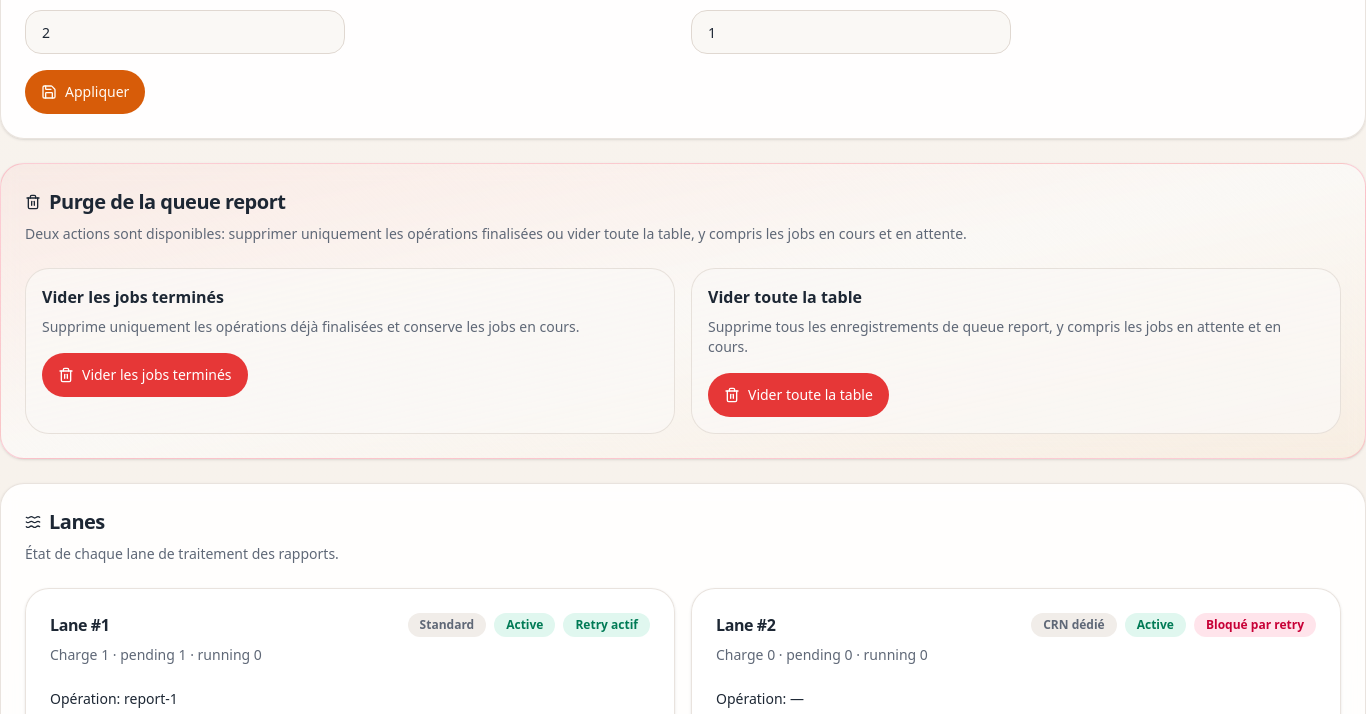
Test: ReportQueuePage › exposes both purge scopes through confirmation panels
(page scrolled)
expect the heading "Purge de la queue report" is shown: met, box [25, 188, 285, 215]
Click the button "Vider les jobs terminés": [145, 375] box [42, 353, 248, 397]
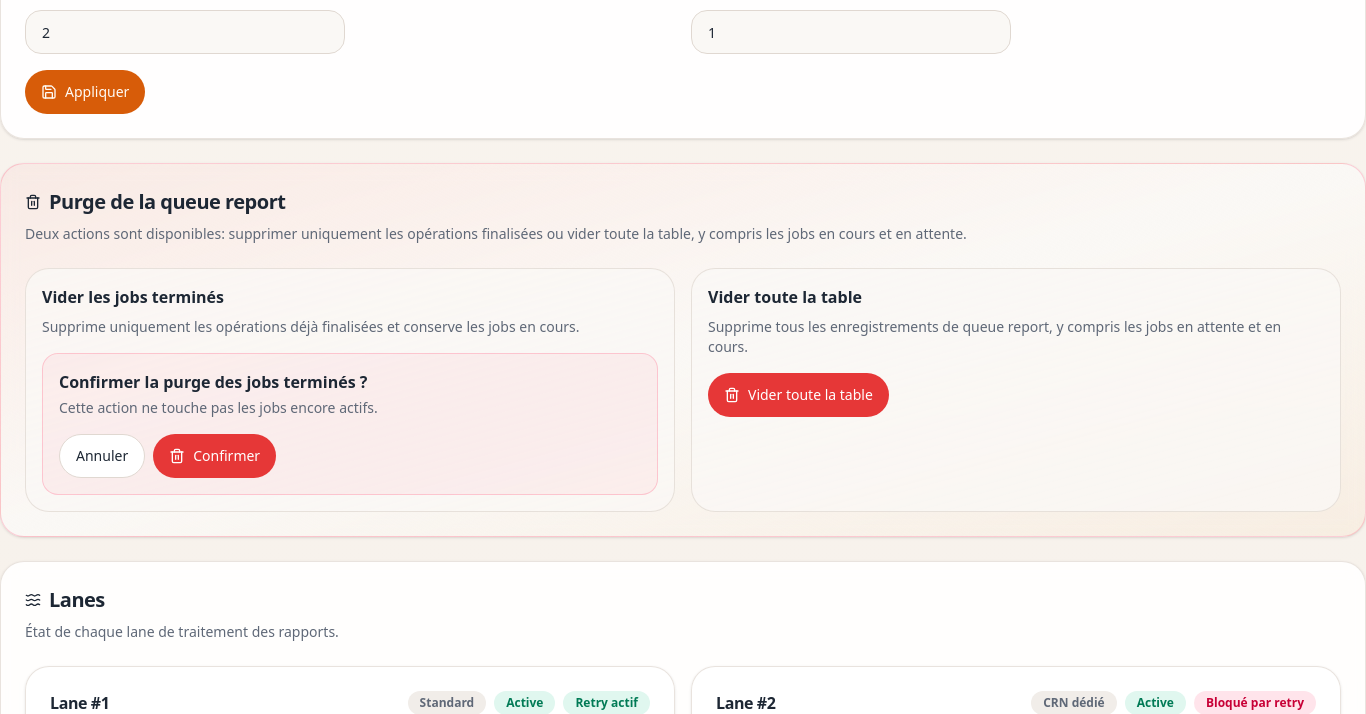
expect the text "Confirmer la purge des jobs terminés ?" is shown: met, box [59, 371, 367, 393]
Click the button "Confirmer": [215, 456] box [153, 434, 276, 478]
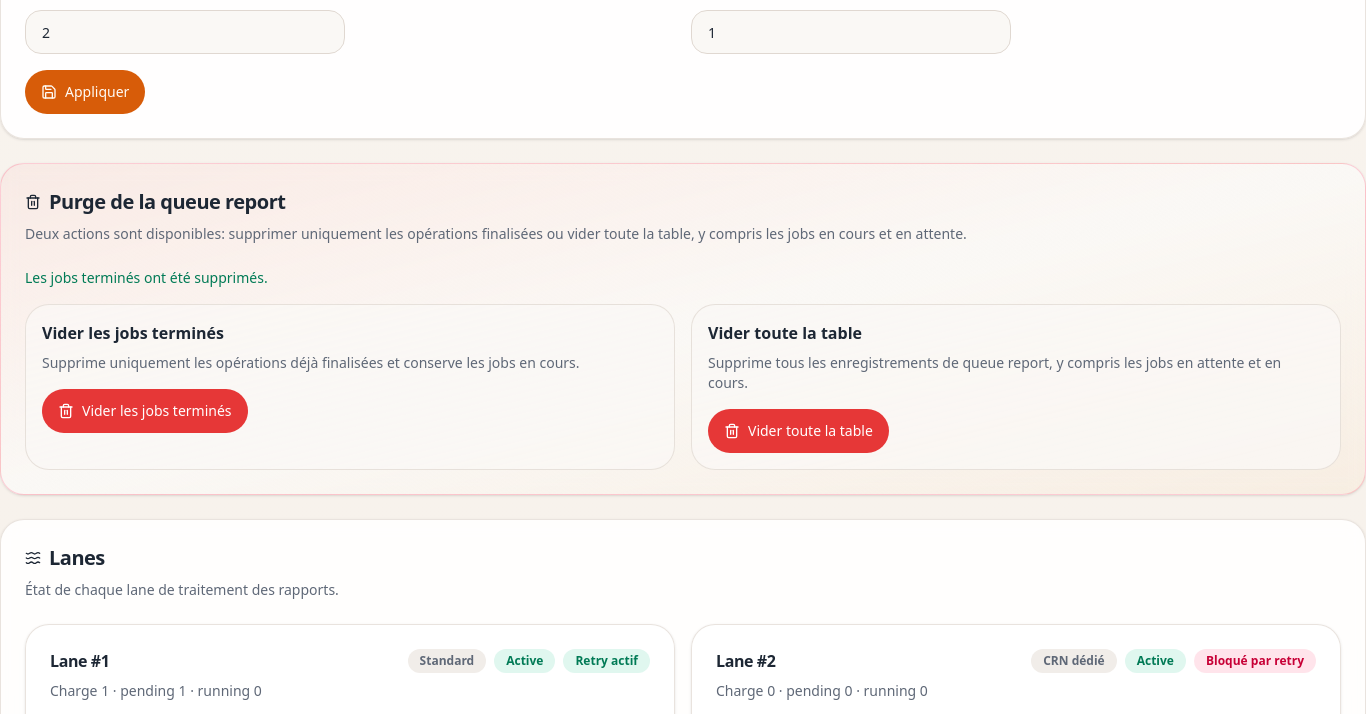
expect the text "Les jobs terminés ont été supprimés." is shown: met, box [25, 268, 268, 287]
Click the button "Vider toute la table": [798, 431] box [708, 409, 889, 453]
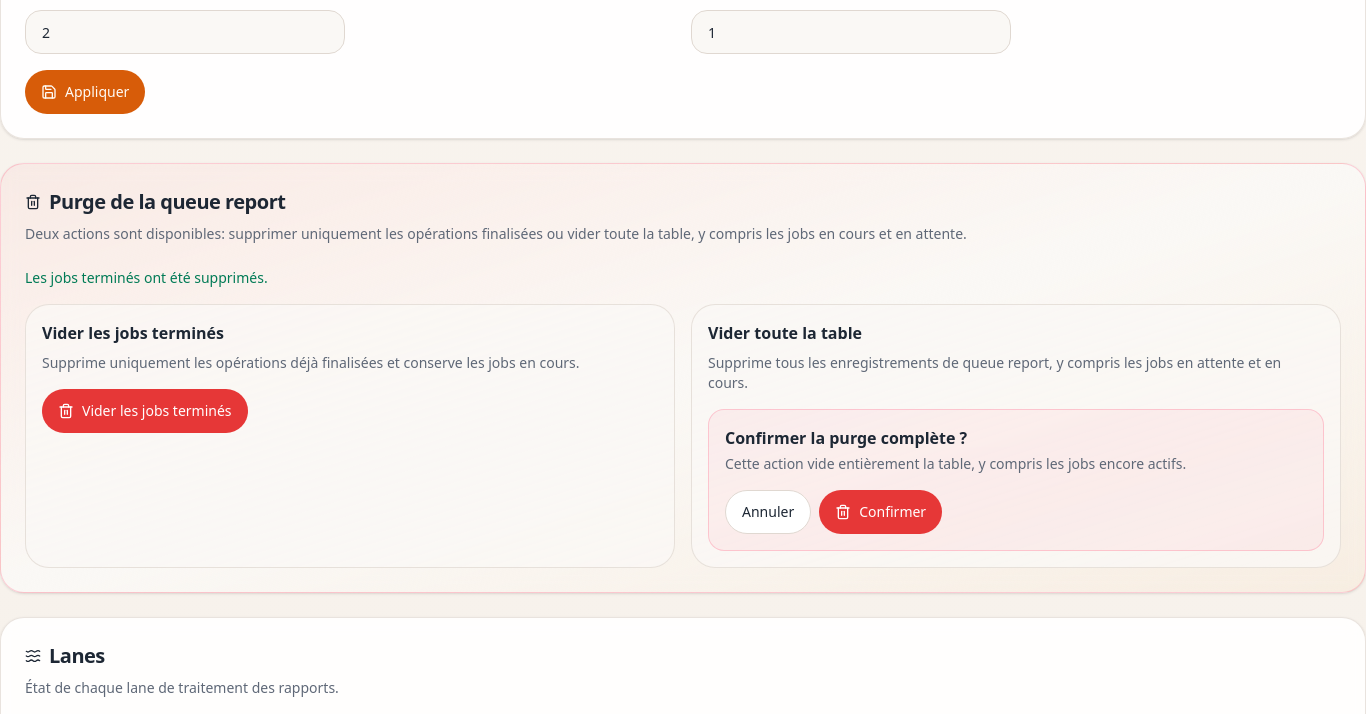
expect the text "Confirmer la purge complète ?" is shown: met, box [725, 427, 967, 449]
Click the button "Confirmer": [881, 512] box [819, 490, 942, 534]
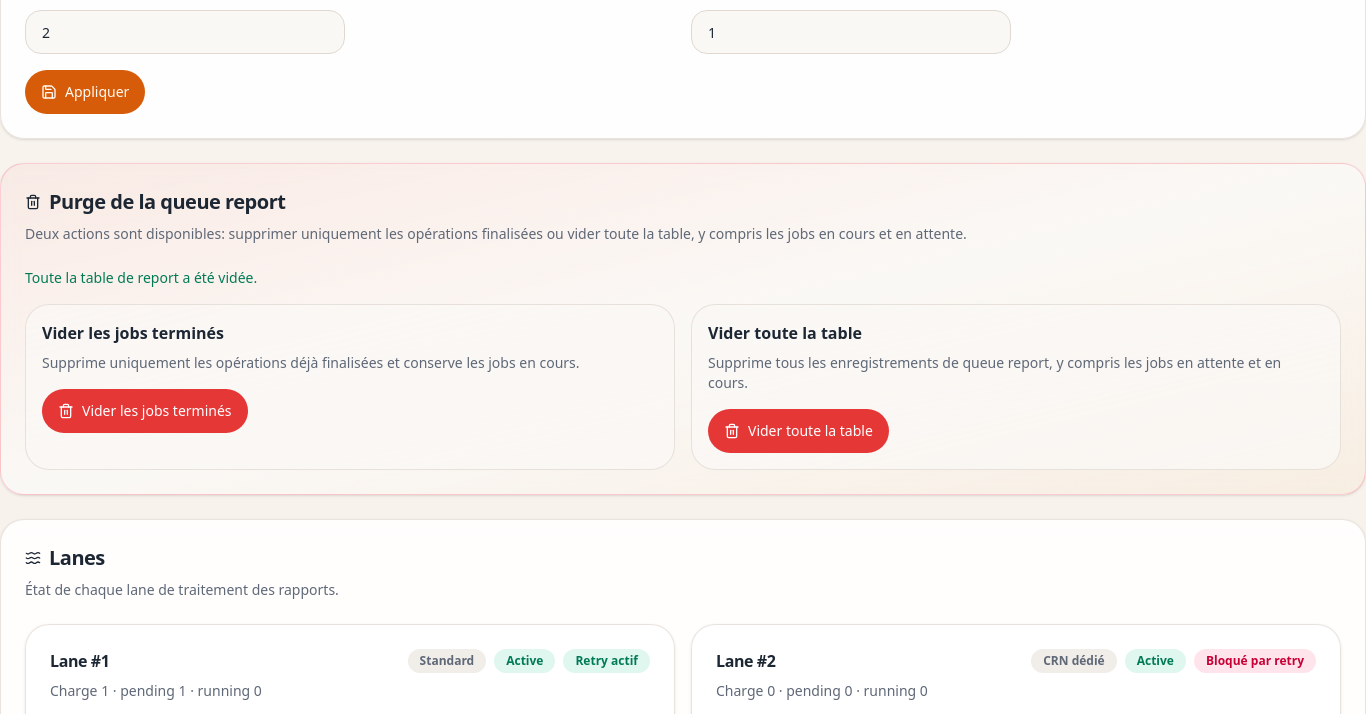
expect the text "Toute la table de report a été vidée." is shown: met, box [25, 268, 257, 287]
